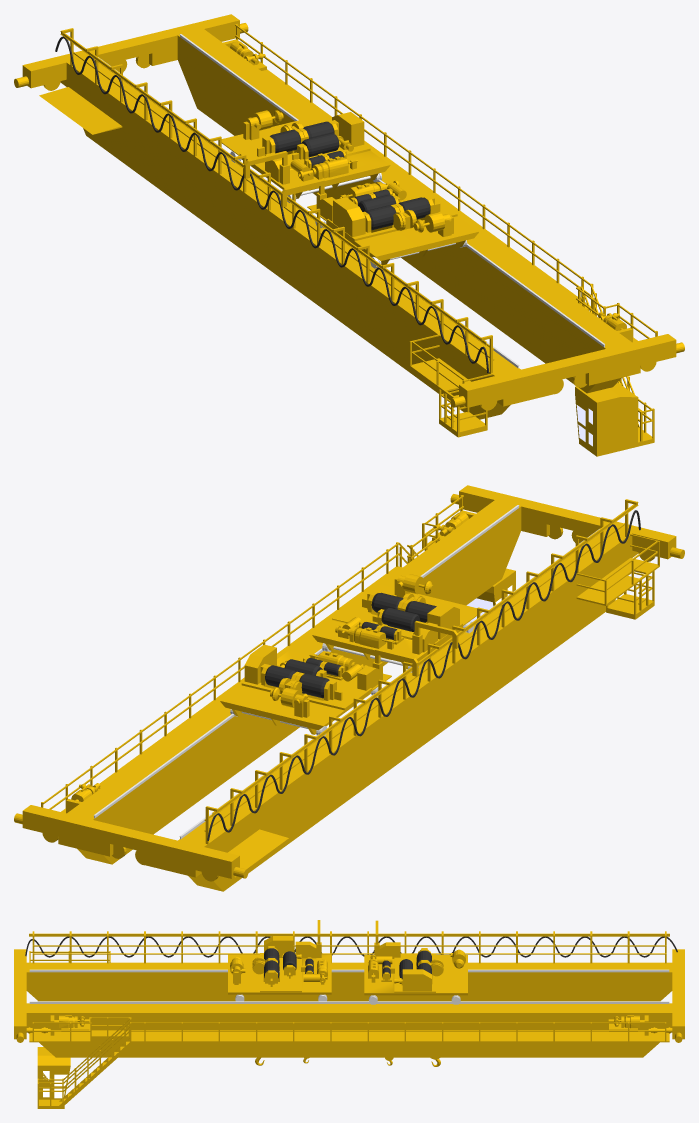
The picture shows the model from 3 angles, top to bottom: view 1: azimuth 30°, elevation 25°; view 2: azimuth 150°, elevation 25°; view 3: azimuth 270°, elevation 25°; orthographic projection. The views are drawn at different scales.
Parts seen in each view (by area): view 1: 3_Bay_C_171_Body, 3_Bay_C_171_Head_01, 3_Bay_C_171_Head_02; view 2: 3_Bay_C_171_Body, 3_Bay_C_171_Head_01, 3_Bay_C_171_Head_02; view 3: 3_Bay_C_171_Body, 3_Bay_C_171_Head_02, 3_Bay_C_171_Head_01.
Boxes of the visible parts, bbox=[...] form: 3_Bay_C_171_Body: bbox=[14, 14, 684, 456]; 3_Bay_C_171_Head_01: bbox=[221, 110, 390, 202]; 3_Bay_C_171_Head_02: bbox=[281, 179, 478, 268]; 3_Bay_C_171_Body: bbox=[14, 485, 684, 891]; 3_Bay_C_171_Head_01: bbox=[220, 644, 418, 736]; 3_Bay_C_171_Head_02: bbox=[312, 574, 482, 672]; 3_Bay_C_171_Body: bbox=[14, 931, 684, 1108]; 3_Bay_C_171_Head_02: bbox=[228, 920, 331, 1001]; 3_Bay_C_171_Head_01: bbox=[364, 920, 467, 1004].
Size of the model in its own units: 11.1 by 7.45 by 37.25.
